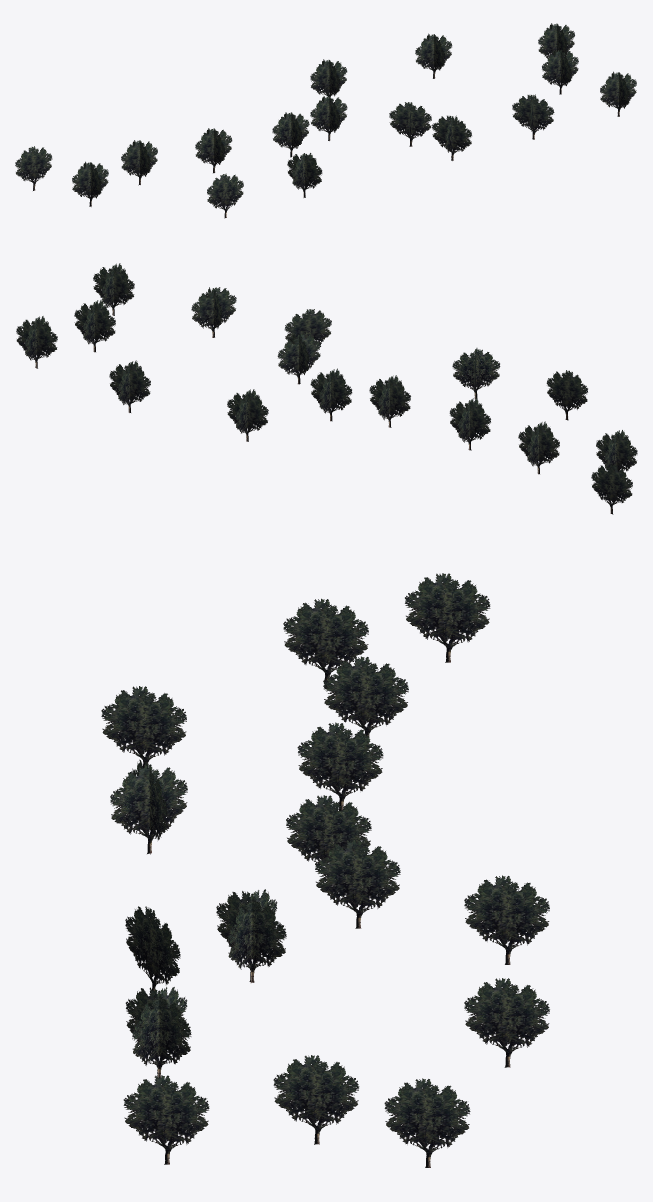
File: planeTree04.FBX
3 views of the same model, one above another, from view 1: azimuth 30°, elevation 25°; view 2: azimuth 150°, elevation 25°; view 3: azimuth 270°, elevation 25° (orthographic). The views are drawn at different scales.
Parts seen in each view (by area): view 1: planeTree04; view 2: planeTree04; view 3: planeTree04.
Part boxes in pixels (x1,y1,x2,y2): planeTree04: [15, 23, 636, 218]; planeTree04: [16, 263, 637, 514]; planeTree04: [101, 573, 549, 1167].
Bounding box in the file's own units: 5654 × 441 × 2000.
1 material, 1 textured.
